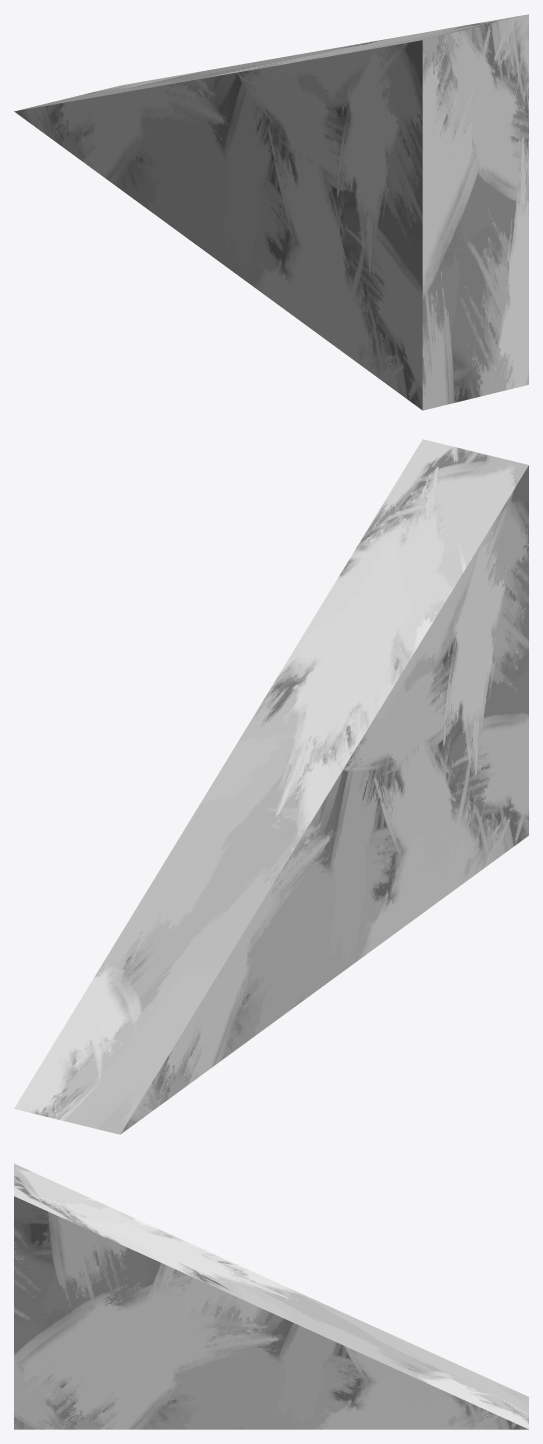
File: Village_Wall_Stone_2m_Slant_A.fbx
3 renders of one model, top to bottom at view 1: azimuth 30°, elevation 25°; view 2: azimuth 150°, elevation 25°; view 3: azimuth 270°, elevation 25°, orthographic. The views are drawn at different scales.
Visible parts, largest first — view 1: Village_Wall_2m_Stone_Slant_A.002; view 2: Village_Wall_2m_Stone_Slant_A.002; view 3: Village_Wall_2m_Stone_Slant_A.002.
Part boxes in pixels (x1,y1,x2,y2): Village_Wall_2m_Stone_Slant_A.002: (14, 14, 528, 410); Village_Wall_2m_Stone_Slant_A.002: (14, 439, 528, 1134); Village_Wall_2m_Stone_Slant_A.002: (14, 1163, 528, 1429).
Bounding box in the file's own units: 30 × 100 × 200.
